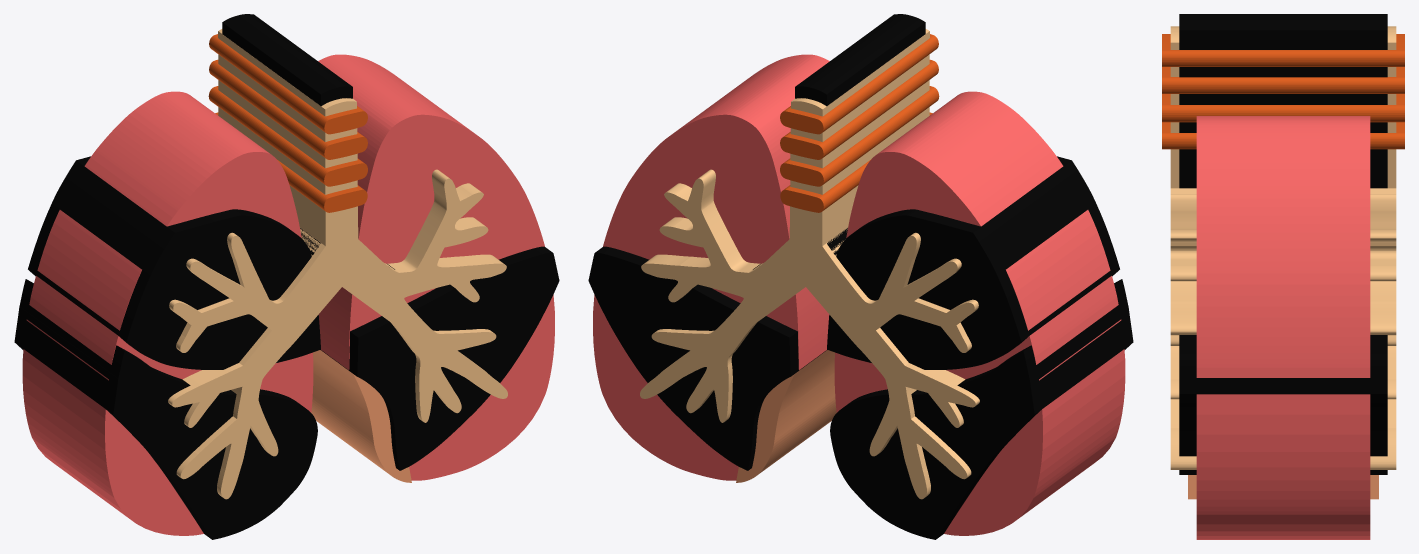
Rendered from U+1FAC1.obj.
3 renders of one model, left to right at view 1: azimuth 30°, elevation 25°; view 2: azimuth 150°, elevation 25°; view 3: azimuth 270°, elevation 25°, orthographic. The views are drawn at different scales.
Parts seen in each view (by area): view 1: U+1FAC1_layer00_obj00, U+1FAC1_layer03_obj00, U+1FAC1_layer00_obj01, U+1FAC1_layer02_obj01, U+1FAC1_layer02_obj00, U+1FAC1_layer02_obj03, U+1FAC1_layer01_obj00, U+1FAC1_layer02_obj02, U+1FAC1_layer04_obj02, U+1FAC1_layer04_obj01, U+1FAC1_layer04_obj00, U+1FAC1_layer04_obj03; view 2: U+1FAC1_layer00_obj00, U+1FAC1_layer03_obj00, U+1FAC1_layer00_obj01, U+1FAC1_layer02_obj01, U+1FAC1_layer02_obj00, U+1FAC1_layer02_obj03, U+1FAC1_layer01_obj00, U+1FAC1_layer02_obj02, U+1FAC1_layer04_obj02, U+1FAC1_layer04_obj01, U+1FAC1_layer04_obj00, U+1FAC1_layer04_obj03; view 3: U+1FAC1_layer00_obj01, U+1FAC1_layer02_obj02, U+1FAC1_layer03_obj00, U+1FAC1_layer02_obj03, U+1FAC1_layer04_obj00, U+1FAC1_layer04_obj01, U+1FAC1_layer04_obj02, U+1FAC1_layer04_obj03, U+1FAC1_layer01_obj00.
Boxes of the visible parts, left/top/right/bottom form: U+1FAC1_layer00_obj00: left=22, top=91, right=313, bottom=535; U+1FAC1_layer03_obj00: left=168, top=29, right=507, bottom=499; U+1FAC1_layer00_obj01: left=318, top=54, right=554, bottom=480; U+1FAC1_layer02_obj01: left=28, top=156, right=320, bottom=369; U+1FAC1_layer02_obj00: left=14, top=279, right=317, bottom=539; U+1FAC1_layer02_obj03: left=320, top=246, right=559, bottom=470; U+1FAC1_layer01_obj00: left=311, top=350, right=411, bottom=482; U+1FAC1_layer02_obj02: left=222, top=14, right=394, bottom=269; U+1FAC1_layer04_obj02: left=208, top=86, right=367, bottom=186; U+1FAC1_layer04_obj01: left=209, top=59, right=367, bottom=159; U+1FAC1_layer04_obj00: left=209, top=34, right=367, bottom=134; U+1FAC1_layer04_obj03: left=215, top=112, right=367, bottom=212; U+1FAC1_layer00_obj00: left=834, top=91, right=1125, bottom=535; U+1FAC1_layer03_obj00: left=640, top=29, right=979, bottom=499; U+1FAC1_layer00_obj01: left=593, top=54, right=829, bottom=480; U+1FAC1_layer02_obj01: left=827, top=156, right=1119, bottom=369; U+1FAC1_layer02_obj00: left=830, top=279, right=1133, bottom=539; U+1FAC1_layer02_obj03: left=588, top=246, right=827, bottom=470; U+1FAC1_layer01_obj00: left=736, top=350, right=836, bottom=482; U+1FAC1_layer02_obj02: left=753, top=14, right=925, bottom=269; U+1FAC1_layer04_obj02: left=780, top=86, right=939, bottom=186; U+1FAC1_layer04_obj01: left=780, top=59, right=938, bottom=159; U+1FAC1_layer04_obj00: left=780, top=34, right=938, bottom=134; U+1FAC1_layer04_obj03: left=780, top=112, right=932, bottom=212; U+1FAC1_layer00_obj01: left=1196, top=116, right=1370, bottom=539; U+1FAC1_layer02_obj02: left=1179, top=14, right=1387, bottom=188; U+1FAC1_layer03_obj00: left=1170, top=26, right=1396, bottom=469; U+1FAC1_layer02_obj03: left=1179, top=335, right=1387, bottom=474; U+1FAC1_layer04_obj00: left=1162, top=34, right=1404, bottom=66; U+1FAC1_layer04_obj01: left=1162, top=67, right=1404, bottom=93; U+1FAC1_layer04_obj02: left=1162, top=94, right=1404, bottom=122; U+1FAC1_layer04_obj03: left=1162, top=122, right=1404, bottom=149; U+1FAC1_layer01_obj00: left=1188, top=475, right=1378, bottom=499.
Bounding box in the file's own units: 0.3155 × 0.2831 × 0.14.
